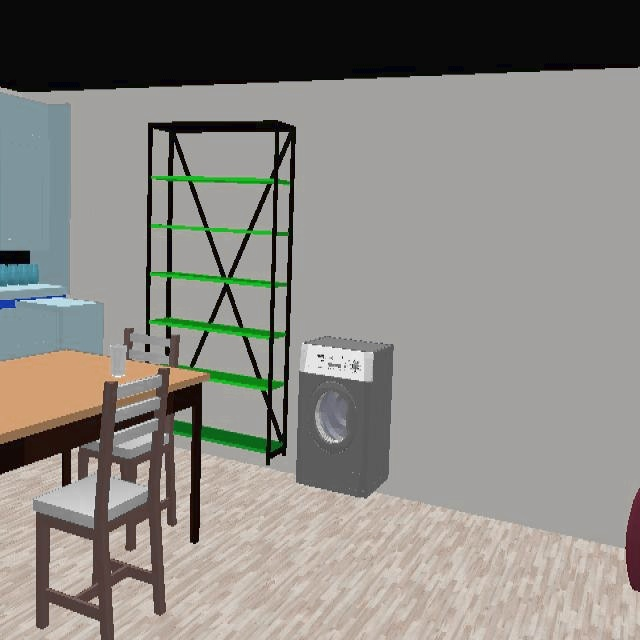shelf: (147, 121, 296, 468)
table: (0, 351, 113, 447)
